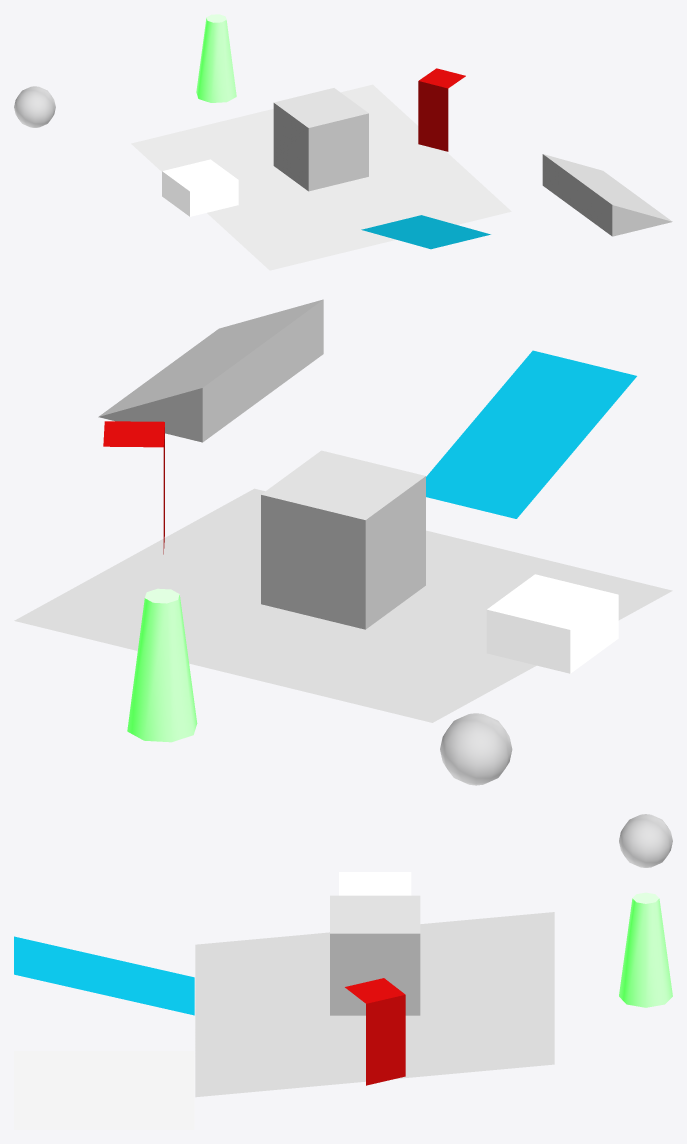
Rendered from map.gltf.
3 renders of one model, top to bottom at view 1: azimuth 30°, elevation 25°; view 2: azimuth 150°, elevation 25°; view 3: azimuth 270°, elevation 25°, orthographic. The views are drawn at different scales.
Size of the model in its own units: 68 by 15 by 73.
